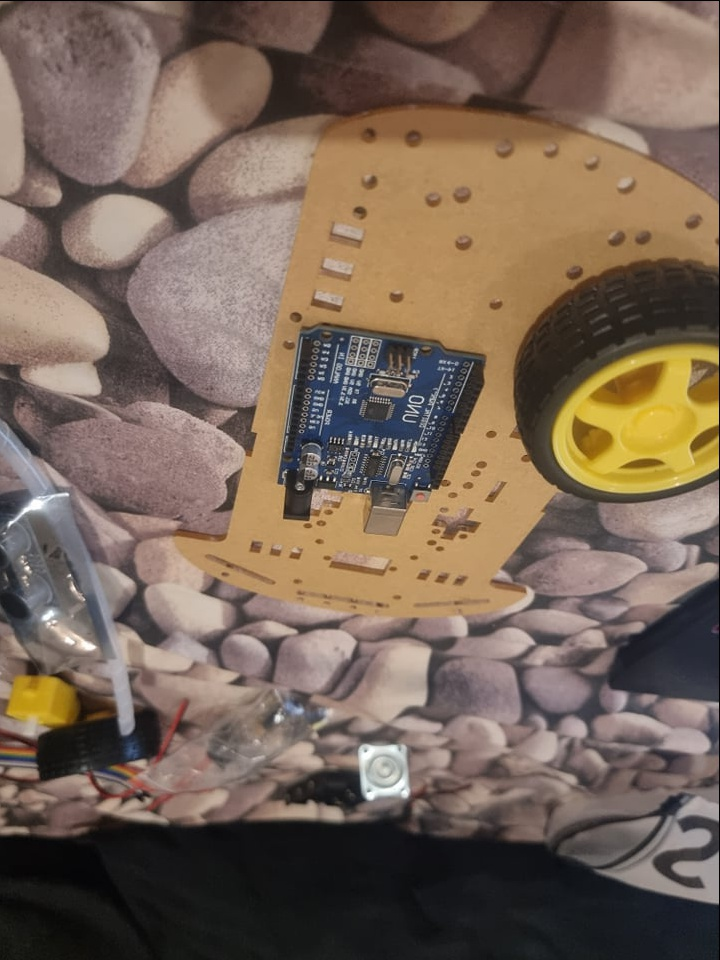BATTERY BOX: (287, 768, 367, 817)
UNO R3: (279, 320, 493, 538)
